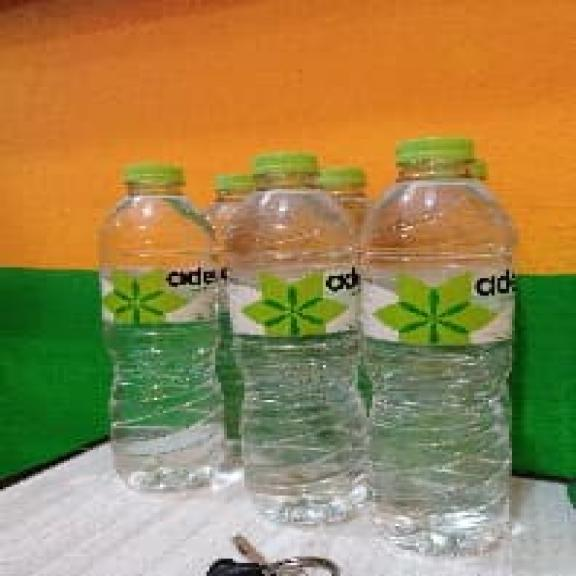Plastik: (364, 140, 515, 555), (101, 164, 221, 489)
